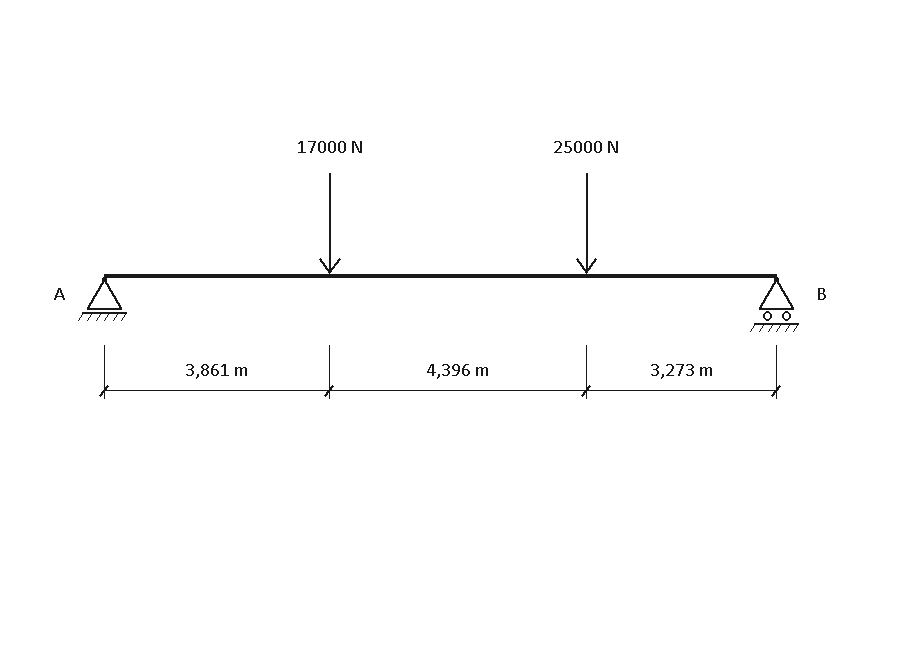pin_support: (78, 277, 127, 321)
point_load: (319, 173, 341, 274), (576, 173, 597, 274)
roller_support: (750, 277, 799, 332)
